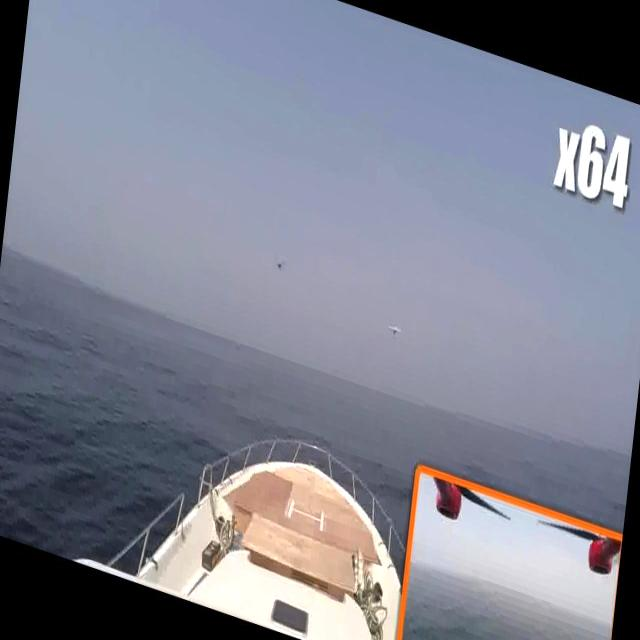drone: (272, 252, 287, 279), (388, 317, 404, 342)
